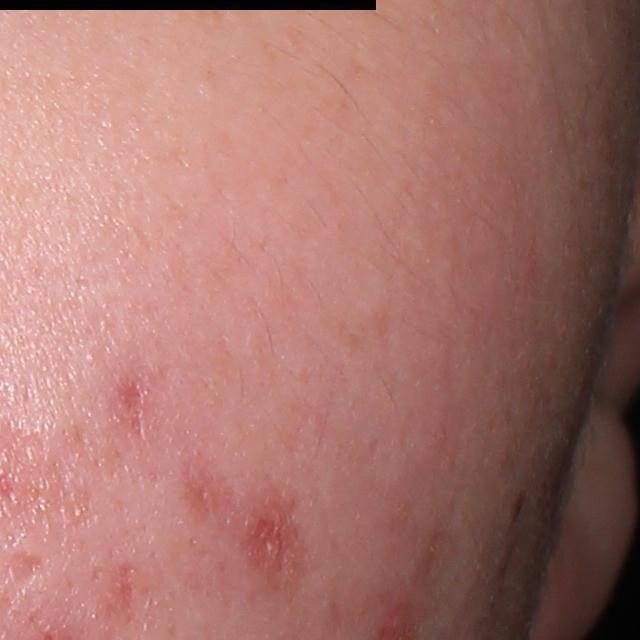atrophic_scar: (240, 499, 309, 589), (416, 518, 470, 608), (109, 550, 149, 633), (113, 375, 154, 441), (2, 554, 45, 594)
